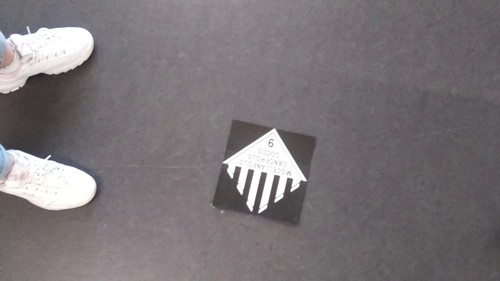misgoods: (223, 122, 308, 217)
